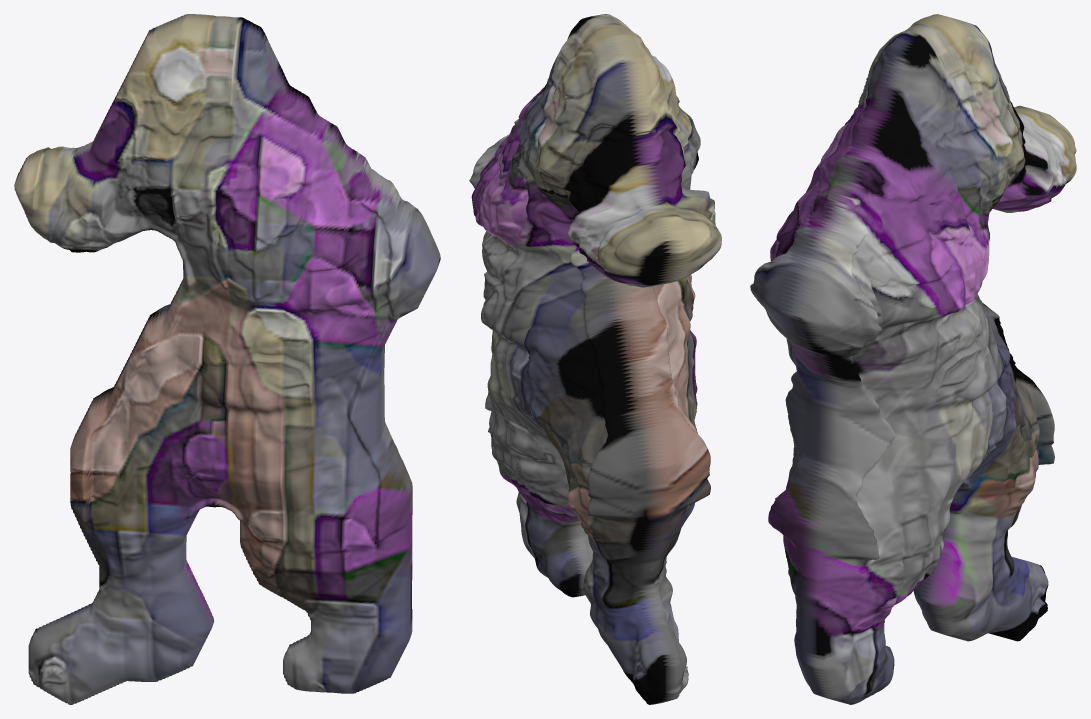
The model's file is psi_commando.glb.
3 renders of one model, left to right at view 1: azimuth 30°, elevation 25°; view 2: azimuth 150°, elevation 25°; view 3: azimuth 270°, elevation 25°, orthographic. The views are drawn at different scales.
Visible parts, largest first — view 1: psi_commando; view 2: psi_commando; view 3: psi_commando.
Part boxes in pixels (x1,y1,x2,y2): psi_commando: (14, 14, 440, 704); psi_commando: (469, 14, 721, 704); psi_commando: (750, 14, 1076, 704).
Size of the model in its own units: 1.12 by 2.23 by 0.9987.
